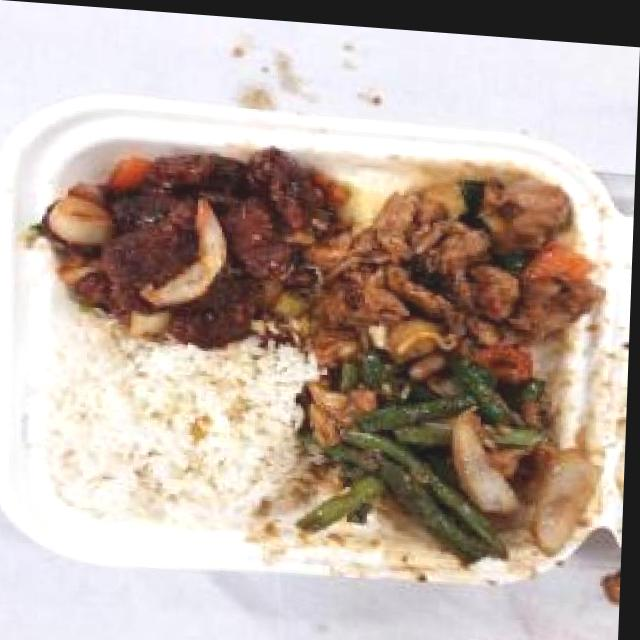Beijing Beef: (38, 123, 342, 345)
Kung Pao Chicken: (313, 146, 604, 370)
String Bean Chicken Breast: (315, 341, 571, 554)
White Steamed Rice: (40, 326, 311, 535)
